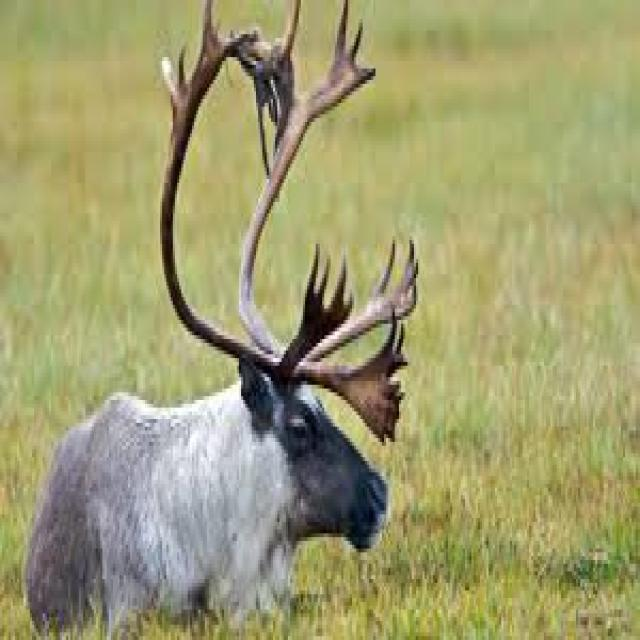Reindeer: (15, 0, 423, 640)
